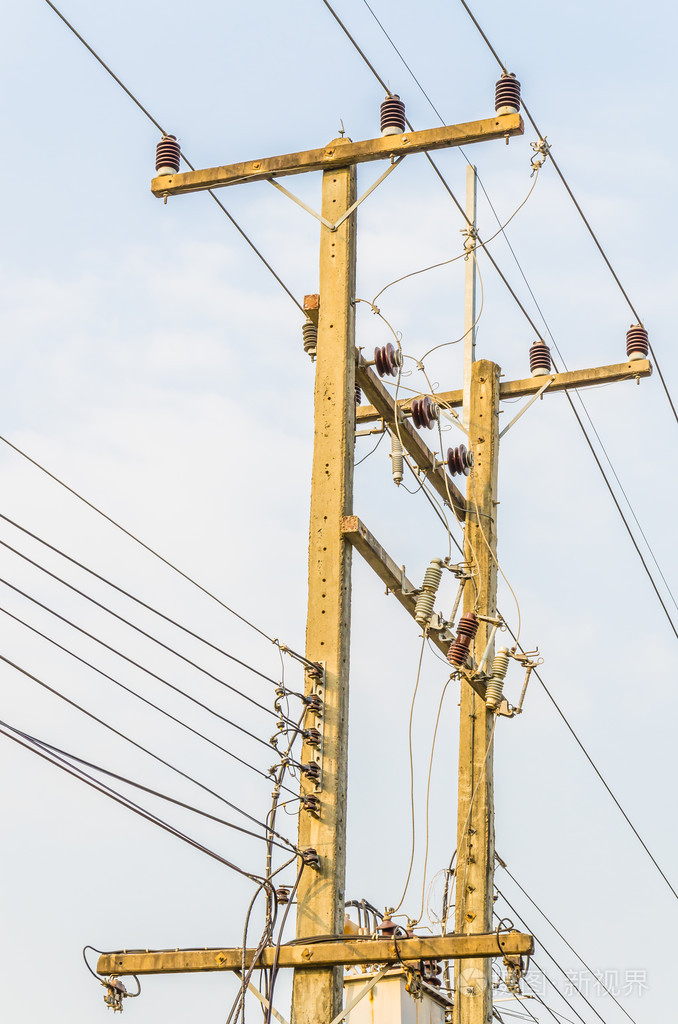insulator: (369, 343, 398, 381), (412, 393, 438, 430), (445, 440, 470, 474)
